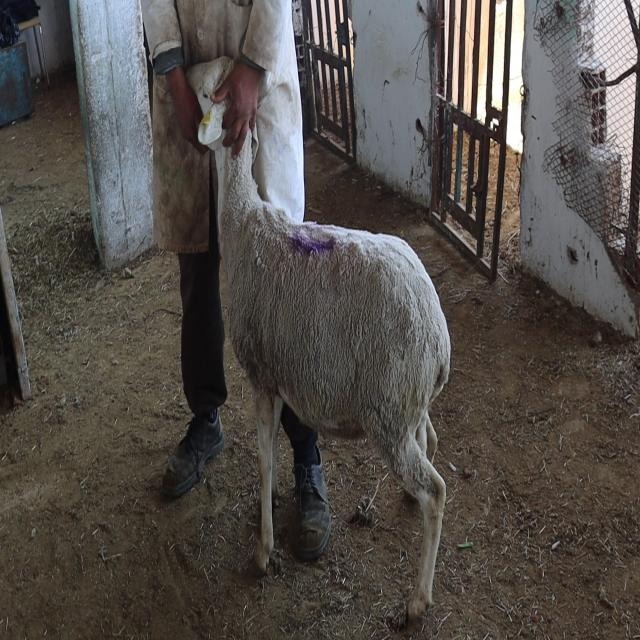Score_2: (187, 57, 451, 624)
